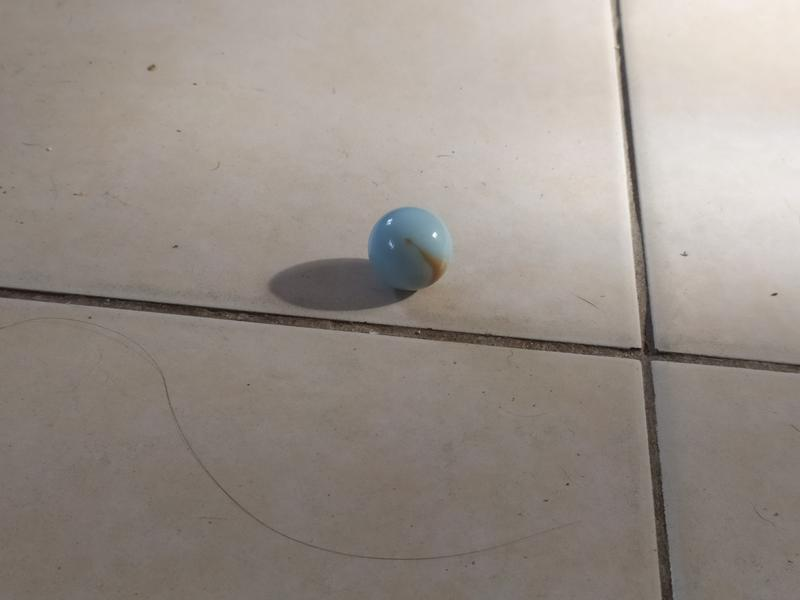Warning: (364, 201, 457, 295)
